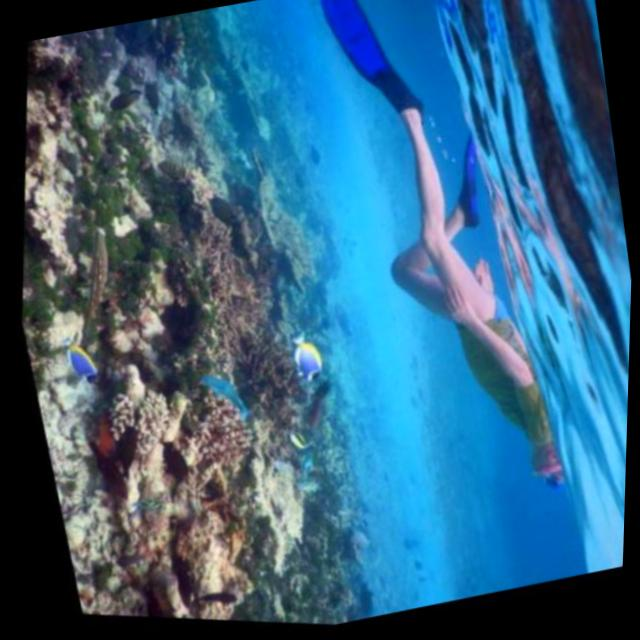Dead Coral: (115, 160, 362, 473)
